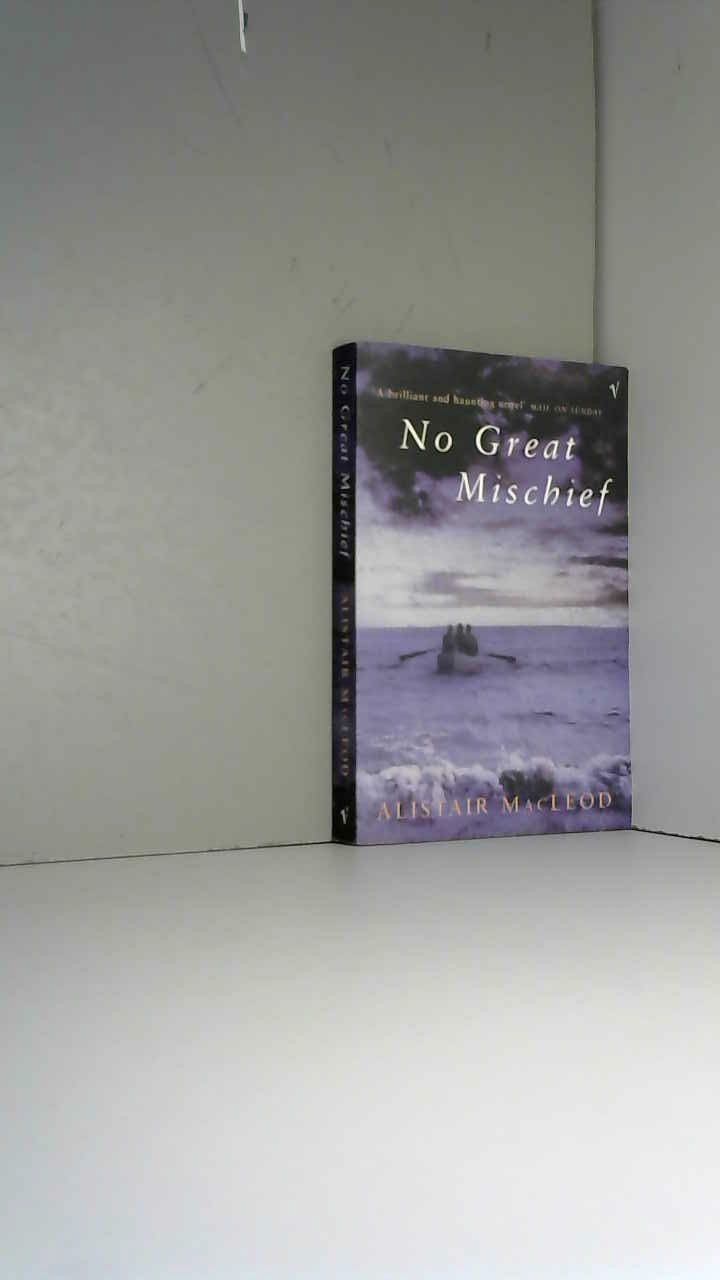book: (315, 324, 652, 860)
